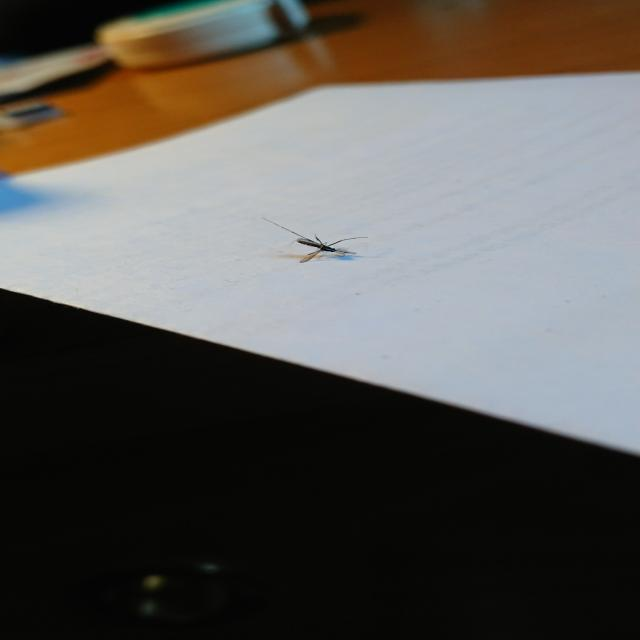albopictus: (256, 212, 382, 265)
